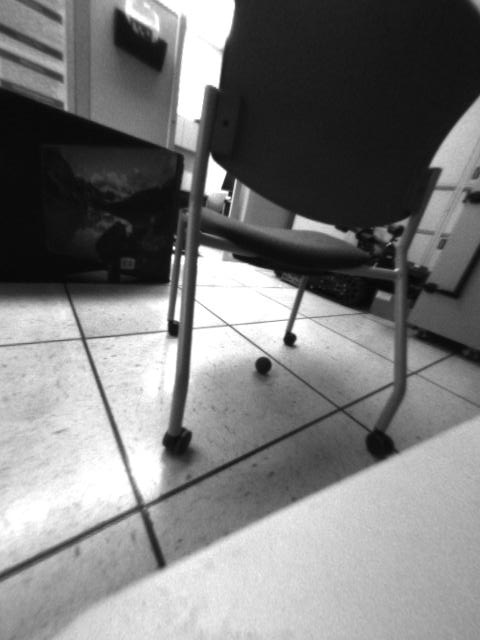dogtoy: (251, 351, 274, 382)
